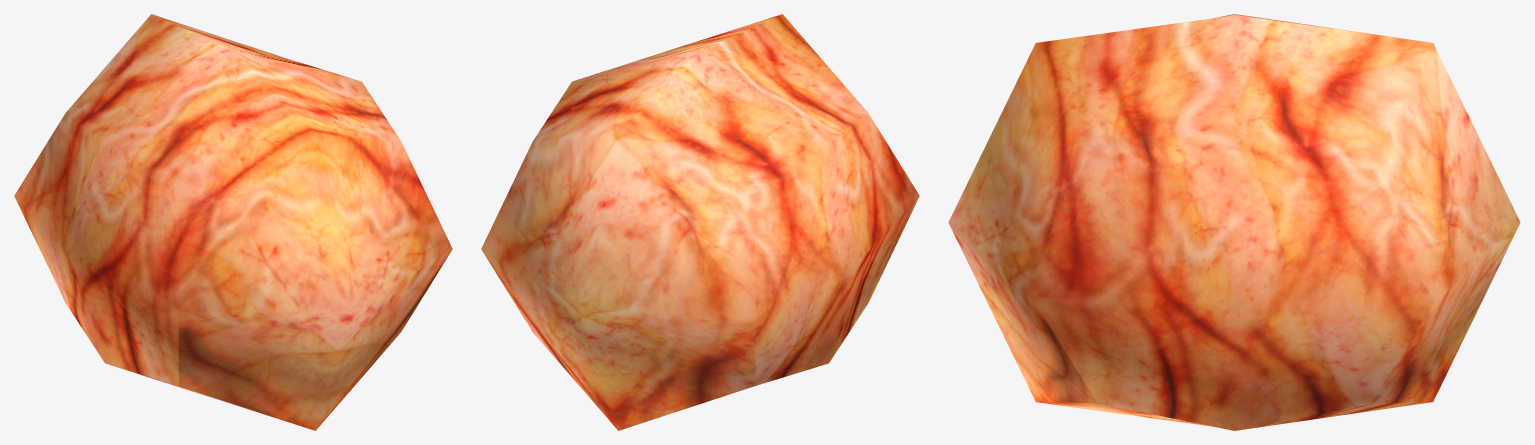
File: SM_Karciniactus_Projectile.fbx
The picture shows the model from 3 angles, left to right: view 1: azimuth 30°, elevation 25°; view 2: azimuth 150°, elevation 25°; view 3: azimuth 270°, elevation 25°; orthographic projection. The views are drawn at different scales.
Visible parts, largest first — view 1: SM_Karciniactus_Projectile; view 2: SM_Karciniactus_Projectile; view 3: SM_Karciniactus_Projectile.
Boxes of the visible parts, bbox=[...] form: SM_Karciniactus_Projectile: bbox=[14, 14, 452, 430]; SM_Karciniactus_Projectile: bbox=[481, 14, 919, 430]; SM_Karciniactus_Projectile: bbox=[948, 14, 1520, 430].
Size of the model in its own units: 22.2 by 22.94 by 28.72.
